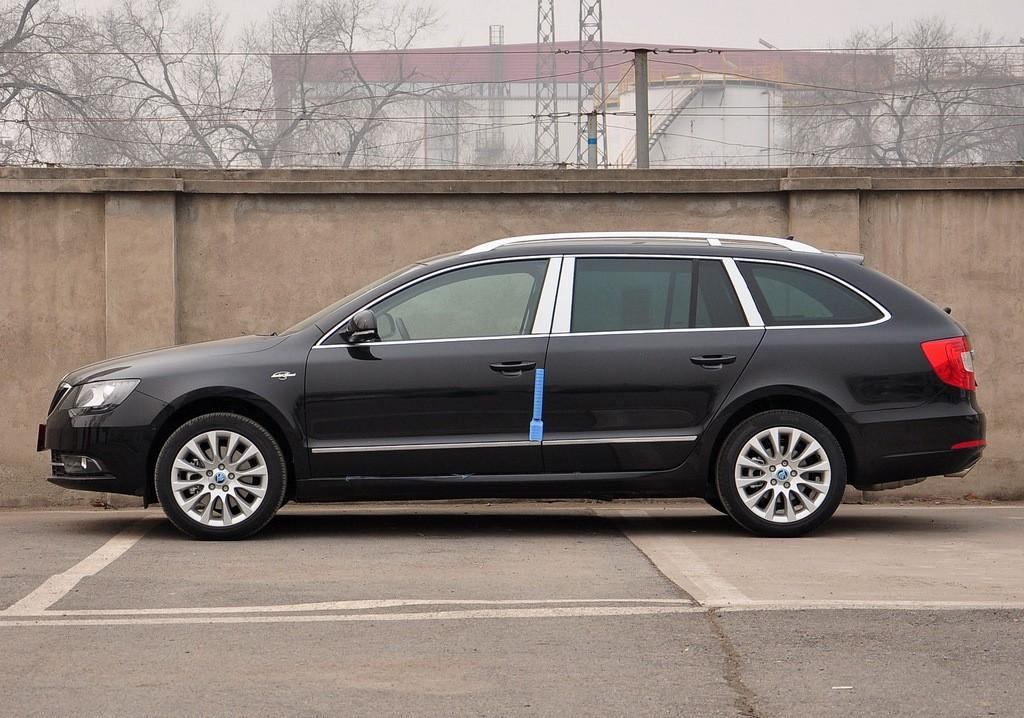Wagon: (41, 231, 985, 540)
